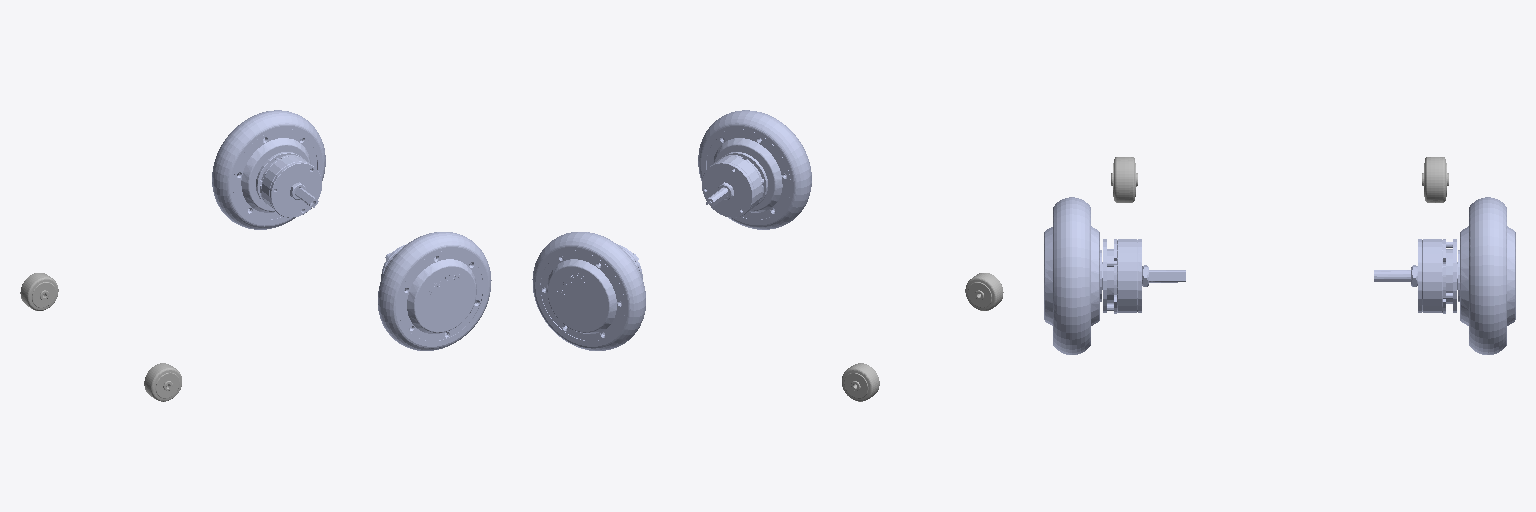
URDF robot description (nana_model_0602_1729):
<?xml version="1.0" encoding="utf-8"?>
<!-- This URDF was automatically created by SolidWorks to URDF Exporter! Originally created by [author] ([email redacted]) 
     Commit Version: 1.6.0-4-g7f85cfe  Build Version: 1.6.7995.38578
     For more information, please see http://wiki.ros.org/sw_urdf_exporter -->
<robot
  name="nana_model_0602_1729">
  <link
    name="base_link">
    <inertial>
      <origin
        xyz="-0.19796 0.0027374 0.60139"
        rpy="0 0 0" />
      <mass
        value="10.16" />
      <inertia
        ixx="0.14772"
        ixy="-0.00072308"
        ixz="-0.0010102"
        iyy="0.082667"
        iyz="-0.0017807"
        izz="0.11972" />
    </inertial>
    <visual>
      <origin
        xyz="0 0 0"
        rpy="0 0 0" />
      <geometry>
        <mesh
          filename="package://nana_model_0602_1729/meshes/base_link.STL" />
      </geometry>
      <material
        name="">
        <color
          rgba="0.79216 0.81961 0.93333 1" />
      </material>
    </visual>
    <collision>
      <origin
        xyz="0 0 0"
        rpy="0 0 0" />
      <geometry>
        <mesh
          filename="package://nana_model_0602_1729/meshes/base_link.STL" />
      </geometry>
    </collision>
  </link>
  <link
    name="left_wheel_link">
    <inertial>
      <origin
        xyz="4.5759E-07 -1.8023E-07 0.018599"
        rpy="0 0 0" />
      <mass
        value="2" />
      <inertia
        ixx="0.0020255"
        ixy="8.1072E-08"
        ixz="9.548E-08"
        iyy="0.0020255"
        iyz="-1.1946E-07"
        izz="0.0026396" />
    </inertial>
    <visual>
      <origin
        xyz="0 0 0"
        rpy="0 0 0" />
      <geometry>
        <mesh
          filename="package://nana_model_0602_1729/meshes/left_wheel_link.STL" />
      </geometry>
      <material
        name="">
        <color
          rgba="0.79216 0.81961 0.93333 1" />
      </material>
    </visual>
    <collision>
      <origin
        xyz="0 0 0"
        rpy="0 0 0" />
      <geometry>
        <mesh
          filename="package://nana_model_0602_1729/meshes/left_wheel_link.STL" />
      </geometry>
    </collision>
  </link>
  <joint
    name="left_wheel_joint"
    type="continuous">
    <origin
      xyz="0 0.1939 0.010026"
      rpy="-1.5708 0 0" />
    <parent
      link="base_link" />
    <child
      link="left_wheel_link" />
    <axis
      xyz="0 0 1" />
  </joint>
  <link
    name="right_wheel_link">
    <inertial>
      <origin
        xyz="-1.7081E-07 -3.7793E-07 -0.018599"
        rpy="0 0 0" />
      <mass
        value="2" />
      <inertia
        ixx="0.0020255"
        ixy="-5.6522E-08"
        ixz="3.4902E-08"
        iyy="0.0020254"
        iyz="1.4896E-07"
        izz="0.0026396" />
    </inertial>
    <visual>
      <origin
        xyz="0 0 0"
        rpy="0 0 0" />
      <geometry>
        <mesh
          filename="package://nana_model_0602_1729/meshes/right_wheel_link.STL" />
      </geometry>
      <material
        name="">
        <color
          rgba="0.79216 0.81961 0.93333 1" />
      </material>
    </visual>
    <collision>
      <origin
        xyz="0 0 0"
        rpy="0 0 0" />
      <geometry>
        <mesh
          filename="package://nana_model_0602_1729/meshes/right_wheel_link.STL" />
      </geometry>
    </collision>
  </link>
  <joint
    name="right_wheel_joint"
    type="continuous">
    <origin
      xyz="0 -0.1939 0.010025"
      rpy="-1.5708 0 0" />
    <parent
      link="base_link" />
    <child
      link="right_wheel_link" />
    <axis
      xyz="0 0 1" />
  </joint>
  <link
    name="omni_wheel_left_link">
    <inertial>
      <origin
        xyz="-5.8981E-16 -1.0408E-16 0.0125"
        rpy="0 0 0" />
      <mass
        value="1" />
      <inertia
        ixx="8.9061E-06"
        ixy="-9.4163E-10"
        ixz="3.4522E-20"
        iyy="8.9049E-06"
        iyz="-2.1966E-20"
        izz="1.3455E-05" />
    </inertial>
    <visual>
      <origin
        xyz="0 0 0"
        rpy="0 0 0" />
      <geometry>
        <mesh
          filename="package://nana_model_0602_1729/meshes/omni_wheel_left_link.STL" />
      </geometry>
      <material
        name="">
        <color
          rgba="0.74902 0.74902 0.74902 1" />
      </material>
    </visual>
    <collision>
      <origin
        xyz="0 0 0"
        rpy="0 0 0" />
      <geometry>
        <mesh
          filename="package://nana_model_0602_1729/meshes/omni_wheel_left_link.STL" />
      </geometry>
    </collision>
  </link>
  <joint
    name="omni_wheel_left_joint"
    type="continuous">
    <origin
      xyz="-0.38992 0.1545 -0.057449"
      rpy="-1.5708 0 0" />
    <parent
      link="base_link" />
    <child
      link="omni_wheel_left_link" />
    <axis
      xyz="0 0 1" />
  </joint>
  <link
    name="omni_wheel_right_link">
    <inertial>
      <origin
        xyz="1.5786E-16 -1.8041E-16 -0.0125"
        rpy="0 0 0" />
      <mass
        value="1" />
      <inertia
        ixx="8.9056E-06"
        ixy="-1.1209E-09"
        ixz="2.5452E-20"
        iyy="8.9055E-06"
        iyz="-3.3641E-20"
        izz="1.3455E-05" />
    </inertial>
    <visual>
      <origin
        xyz="0 0 0"
        rpy="0 0 0" />
      <geometry>
        <mesh
          filename="package://nana_model_0602_1729/meshes/omni_wheel_right_link.STL" />
      </geometry>
      <material
        name="">
        <color
          rgba="0.74902 0.74902 0.74902 1" />
      </material>
    </visual>
    <collision>
      <origin
        xyz="0 0 0"
        rpy="0 0 0" />
      <geometry>
        <mesh
          filename="package://nana_model_0602_1729/meshes/omni_wheel_right_link.STL" />
      </geometry>
    </collision>
  </link>
  <joint
    name="omni_wheel_right_joint"
    type="continuous">
    <origin
      xyz="-0.38992 -0.1545 -0.057449"
      rpy="-1.5708 0 0" />
    <parent
      link="base_link" />
    <child
      link="omni_wheel_right_link" />
    <axis
      xyz="0 0 1" />
  </joint>
</robot>

--- Render facts (derived) ---
3 views of the same robot in one strip: view 1: azimuth 30°, elevation 25°; view 2: azimuth 150°, elevation 25°; view 3: azimuth 270°, elevation 25° (orthographic).
Model nana_model_0602_1729 with 5 links and 4 joints (4 continuous), rooted at base_link, posed all joints at 0.
Links seen in each view (by area): view 1: left_wheel_link, right_wheel_link, omni_wheel_left_link, omni_wheel_right_link; view 2: right_wheel_link, left_wheel_link, omni_wheel_left_link, omni_wheel_right_link; view 3: right_wheel_link, left_wheel_link, omni_wheel_right_link, omni_wheel_left_link.
Link boxes in pixels (x1,y1,x2,y2): left_wheel_link: (212,110,325,229); right_wheel_link: (378,232,491,350); omni_wheel_left_link: (20,273,58,310); omni_wheel_right_link: (144,363,181,401); right_wheel_link: (698,110,811,229); left_wheel_link: (532,232,645,350); omni_wheel_left_link: (842,363,879,401); omni_wheel_right_link: (965,273,1003,310); right_wheel_link: (1044,197,1185,354); left_wheel_link: (1374,197,1515,354); omni_wheel_right_link: (1111,157,1137,202); omni_wheel_left_link: (1422,157,1448,202).
Size in the robot's own frame: 0.4999 by 0.5062 by 0.1774 metres.
Meshes: 5 distinct files referenced, 4 mesh visuals loaded (4 binary STL); not drawn: 1 (reference not matched to a file when rendering).
